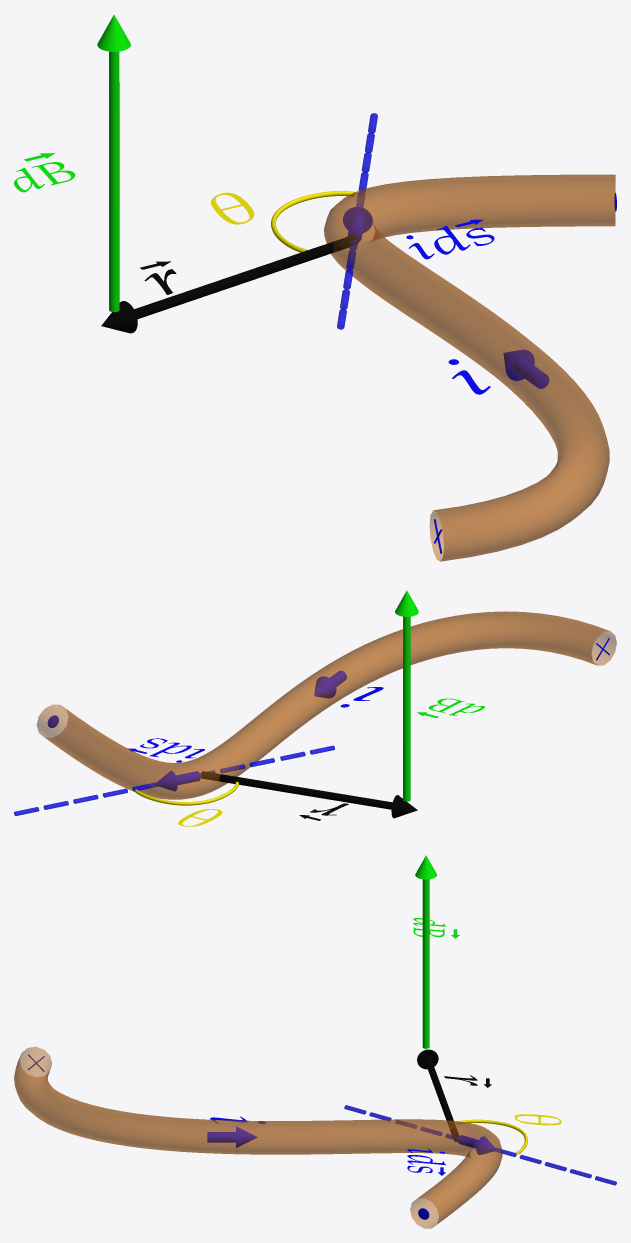
Rendered from Alambre forma arbitraria.dae.
The picture shows the model from 3 angles, top to bottom: view 1: azimuth 30°, elevation 25°; view 2: azimuth 150°, elevation 25°; view 3: azimuth 270°, elevation 25°; orthographic projection. The views are drawn at different scales.
Parts seen in each view (by area): view 1: Text.001; view 2: Text.001; view 3: Text.001.
Boxes of the visible parts, x1,y1,x2,y2 form: Text.001: (14, 14, 616, 561); Text.001: (14, 590, 616, 826); Text.001: (14, 855, 616, 1228).
Bounding box in the file's own units: 11.45 × 15 × 5.9.
